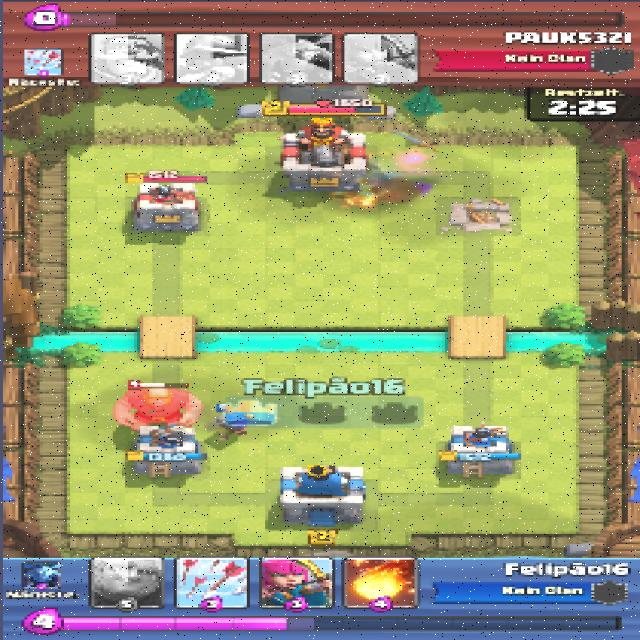Enemy-Fireball: (331, 167, 424, 207)
Enemy-Giant: (109, 388, 200, 427)
Player-Musketeer: (212, 406, 246, 435)
